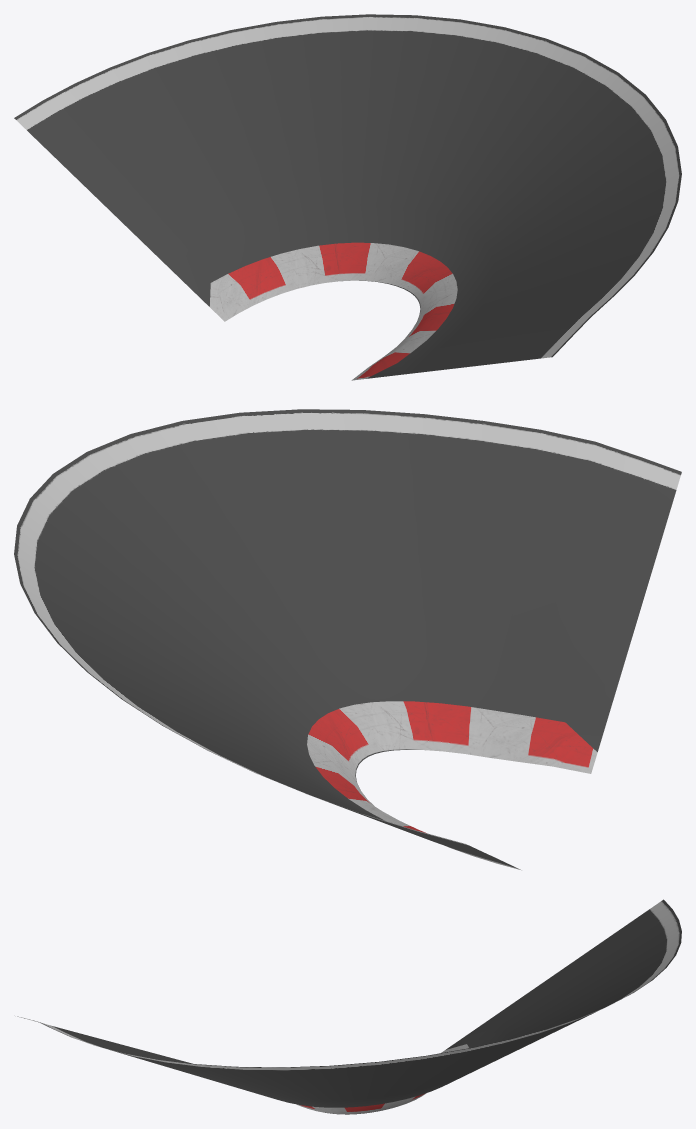
File: sm_road.009.fbx
3 views of the same model, one above another, from view 1: azimuth 30°, elevation 25°; view 2: azimuth 150°, elevation 25°; view 3: azimuth 270°, elevation 25° (orthographic). The views are drawn at different scales.
Visible parts, largest first — view 1: sm_road.016; view 2: sm_road.016; view 3: sm_road.016.
Part boxes in pixels (x1,y1,x2,y2): sm_road.016: (14,14,681,380); sm_road.016: (14,409,681,870); sm_road.016: (17,899,681,1114).
Bounding box in the file's own units: 39.35 × 15.46 × 53.73.
